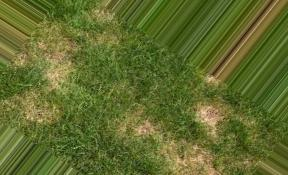patch: (172, 139, 226, 175), (50, 45, 79, 86), (23, 92, 56, 123), (194, 100, 224, 130), (127, 115, 159, 142), (86, 11, 123, 27)
